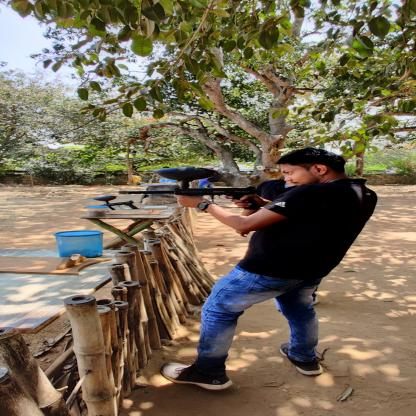rifle: (118, 166, 260, 211)
